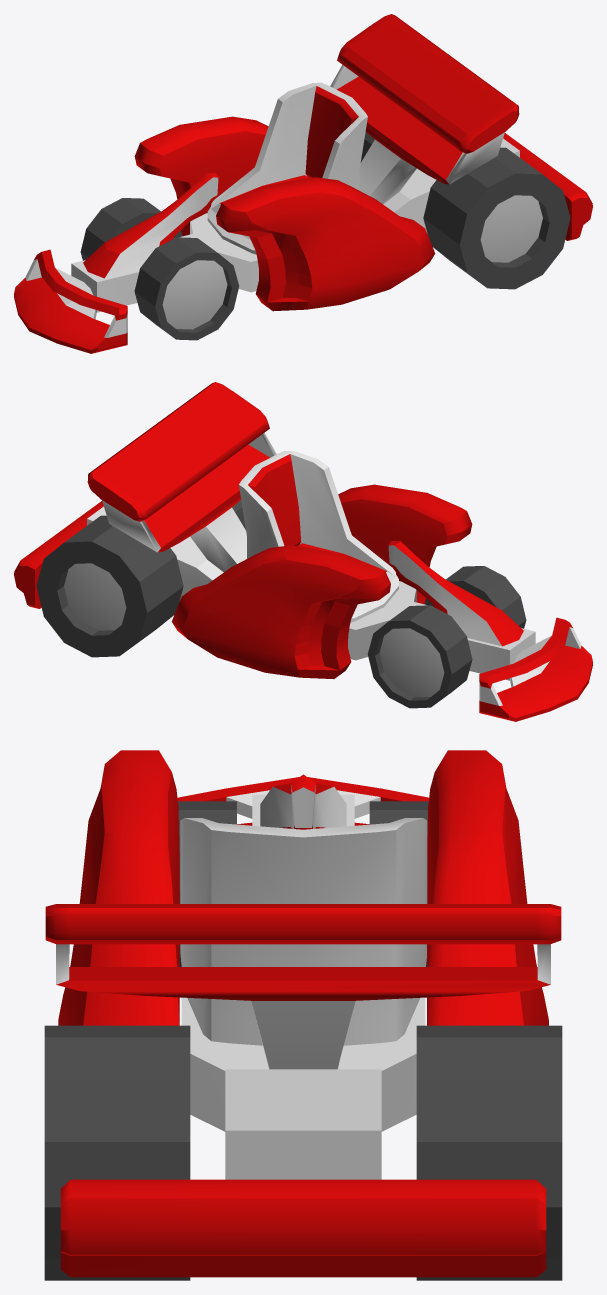
File: RacerWhite.fbx
3 views of the same model, one above another, from view 1: azimuth 30°, elevation 25°; view 2: azimuth 150°, elevation 25°; view 3: azimuth 270°, elevation 25° (orthographic). The views are drawn at different scales.
Parts seen in each view (by area): view 1: Spoiler, LeftSideSkirt, TireRearLeft, originalSeat5, TireFrontLeft, RightSideSkirt, FrontBumper, Frame, SteeringColumn, TireFrontRight, RearBumper; view 2: Spoiler, RightSideSkirt, TireRearRight, originalSeat5, TireFrontRight, LeftSideSkirt, FrontBumper, Frame, SteeringColumn, TireFrontLeft, RearBumper; view 3: RearBumper, Spoiler, originalSeat5, Frame, TireRearRight, TireRearLeft, RightSideSkirt, LeftSideSkirt, SteeringColumn, FrontBumper, TireFrontLeft, TireFrontRight.
Boxes of the visible parts, x1,y1,x2,y2 form: Spoiler: (330, 14, 519, 203); LeftSideSkirt: (216, 177, 435, 311); TireRearLeft: (423, 147, 570, 289); originalSeat5: (207, 82, 367, 254); TireFrontLeft: (134, 237, 239, 340); RightSideSkirt: (134, 116, 268, 236); FrontBumper: (14, 249, 127, 353); Frame: (71, 138, 519, 312); SteeringColumn: (83, 172, 218, 278); TireFrontRight: (80, 198, 182, 260); RearBumper: (503, 133, 592, 240); Spoiler: (87, 382, 276, 571); RightSideSkirt: (171, 545, 390, 679); TireRearRight: (36, 515, 183, 657); originalSeat5: (239, 451, 398, 622); TireFrontRight: (367, 605, 472, 708); LeftSideSkirt: (338, 484, 472, 604); FrontBumper: (479, 617, 592, 721); Frame: (87, 506, 535, 680); SteeringColumn: (388, 540, 523, 646); TireFrontLeft: (424, 566, 526, 628); RearBumper: (14, 501, 103, 608); RearBumper: (60, 1179, 546, 1277); Spoiler: (45, 904, 561, 1069); originalSeat5: (180, 818, 427, 1045); Frame: (181, 794, 425, 1179); TireRearRight: (416, 1025, 562, 1280); TireRearLeft: (44, 1025, 190, 1280); RightSideSkirt: (427, 750, 548, 1025); LeftSideSkirt: (58, 750, 179, 1025); SteeringColumn: (260, 774, 346, 829); FrontBumper: (177, 777, 428, 825); TireFrontLeft: (178, 801, 236, 966); TireFrontRight: (369, 801, 428, 966).
Bounding box in the file's own units: 4.78 × 1.65 × 2.12.
